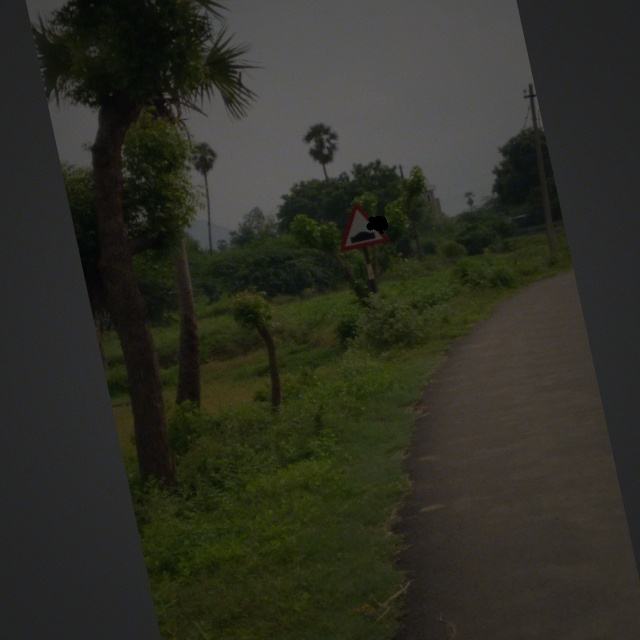Hump_or_Rough_Road: (326, 193, 392, 258)
